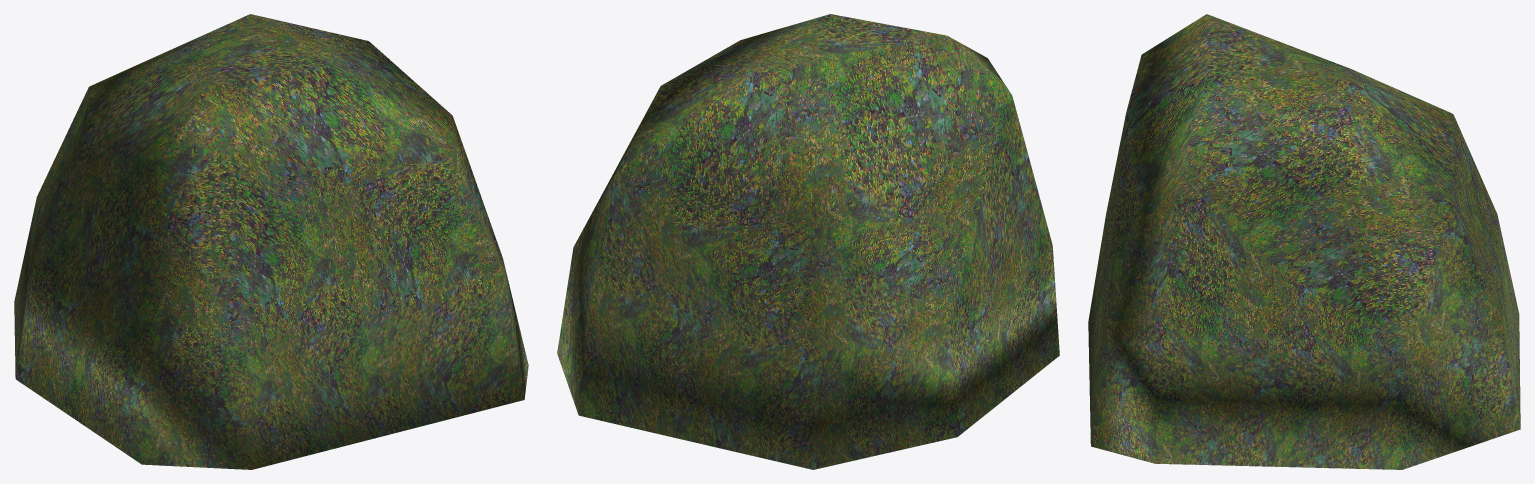
Rendered from rock_mossy_big_l2.fbx.
The picture shows the model from 3 angles, left to right: view 1: azimuth 30°, elevation 25°; view 2: azimuth 150°, elevation 25°; view 3: azimuth 270°, elevation 25°; orthographic projection. The views are drawn at different scales.
Visible parts, largest first — view 1: mesh_node; view 2: mesh_node; view 3: mesh_node.
Part boxes in pixels (x1,y1,x2,y2): mesh_node: (14, 14, 528, 469); mesh_node: (557, 14, 1059, 469); mesh_node: (1088, 14, 1520, 469).
Size of the model in its own units: 6.24 by 4.91 by 6.09.
